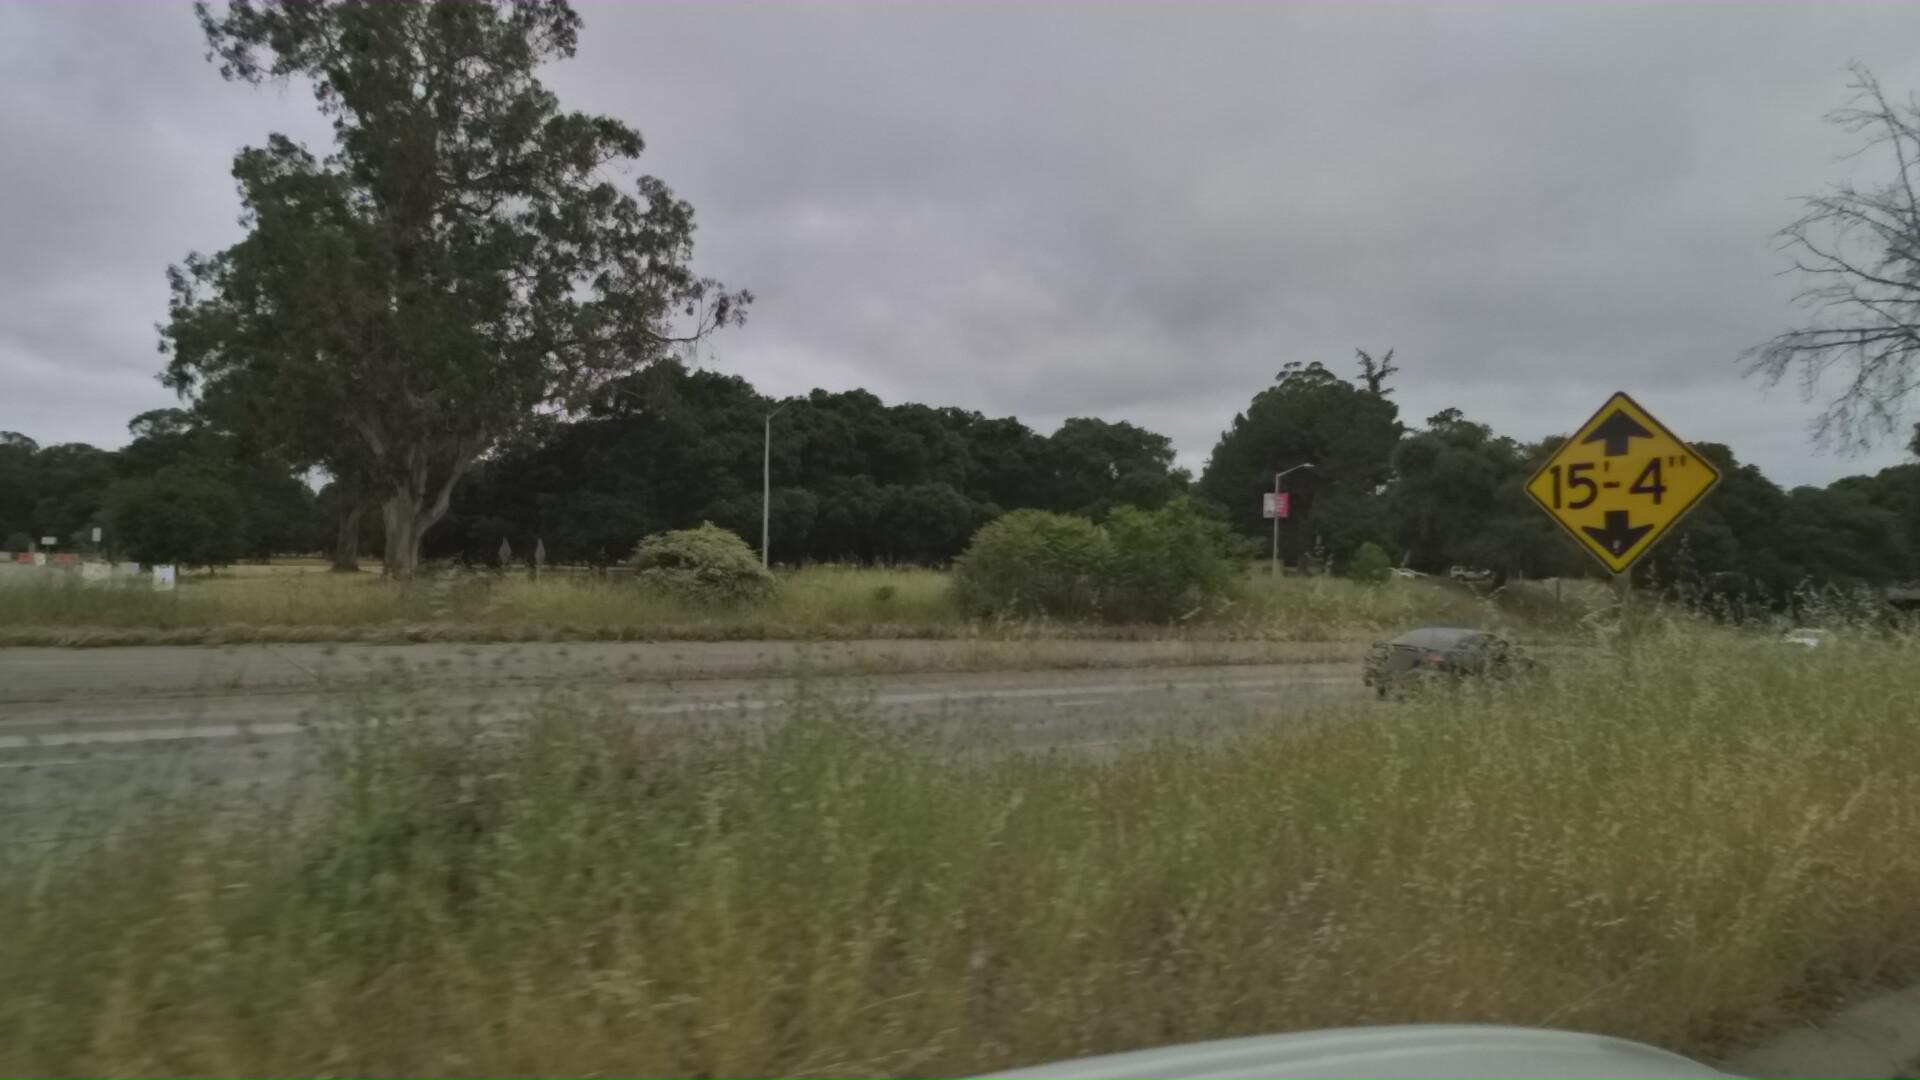car: (1319, 605, 1548, 698)
